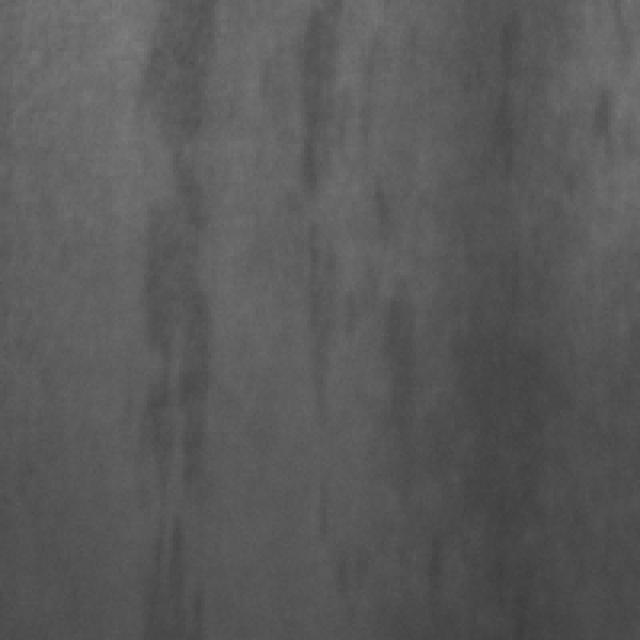inclusion: (438, 0, 572, 480), (120, 198, 232, 506), (280, 2, 378, 180), (282, 204, 344, 454), (130, 0, 230, 154), (132, 509, 230, 640), (401, 512, 463, 586)
